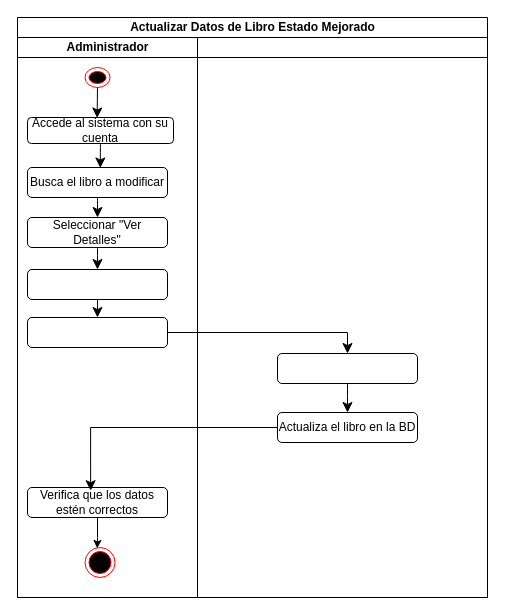
The diagram is 505 pixels wide and 615 high, and some of its shapes have lost their labels. Each missing label, with the box of its shape:
Guardar los cambios: (26, 316, 168, 348)
Modificar los campos necesarios: (26, 268, 168, 300)
SistemaBiblioteca: (196, 36, 488, 598)
Valida los datos modificados: (276, 352, 418, 384)
